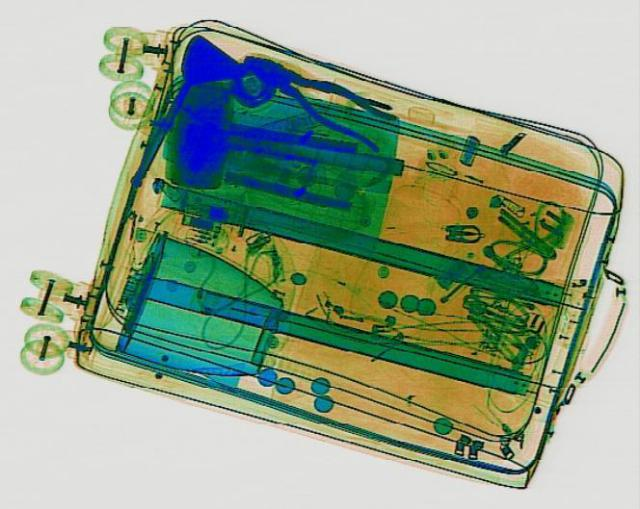Pliers: (226, 38, 408, 154)
